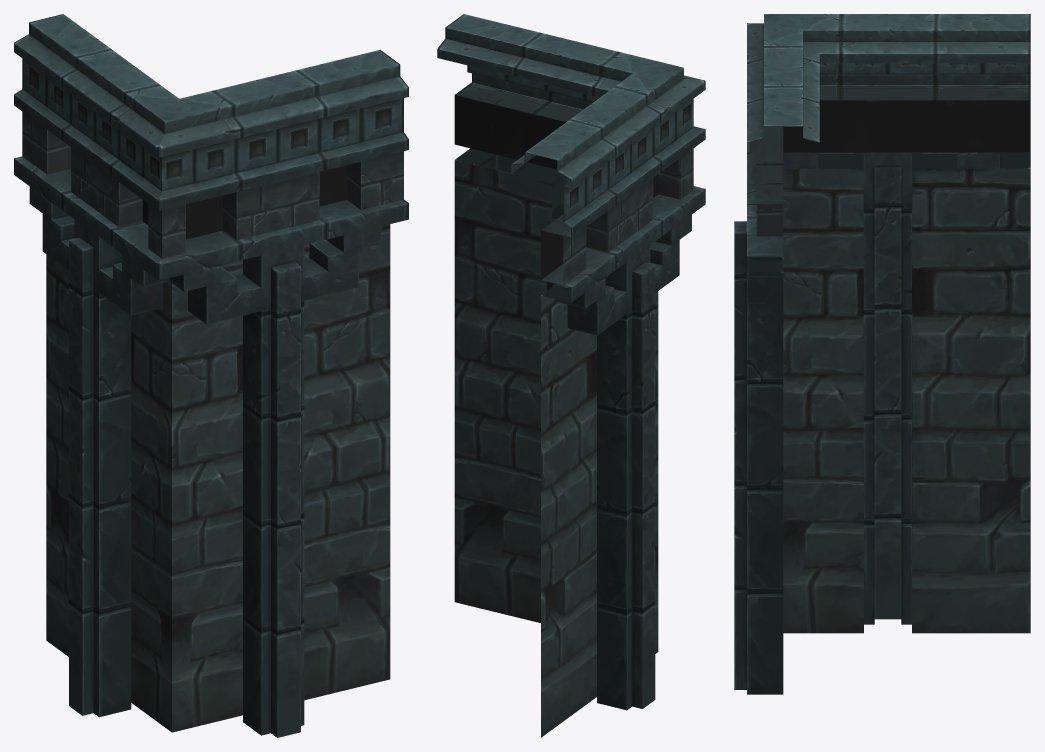
Rendered from Stage_DiXiaCheng_DiMianBaoBian08.FBX.
3 views of the same model, side by side, from view 1: azimuth 30°, elevation 25°; view 2: azimuth 150°, elevation 25°; view 3: azimuth 270°, elevation 25° (orthographic). The views are drawn at different scales.
Visible parts, largest first — view 1: Stage_DiXiaCheng_DiMianBaoBian08; view 2: Stage_DiXiaCheng_DiMianBaoBian08; view 3: Stage_DiXiaCheng_DiMianBaoBian08.
Part boxes in pixels (x1,y1,x2,y2): Stage_DiXiaCheng_DiMianBaoBian08: [14, 14, 408, 737]; Stage_DiXiaCheng_DiMianBaoBian08: [437, 14, 705, 737]; Stage_DiXiaCheng_DiMianBaoBian08: [734, 14, 1030, 694].
Bounding box in the file's own units: 634 × 1458 × 633.
